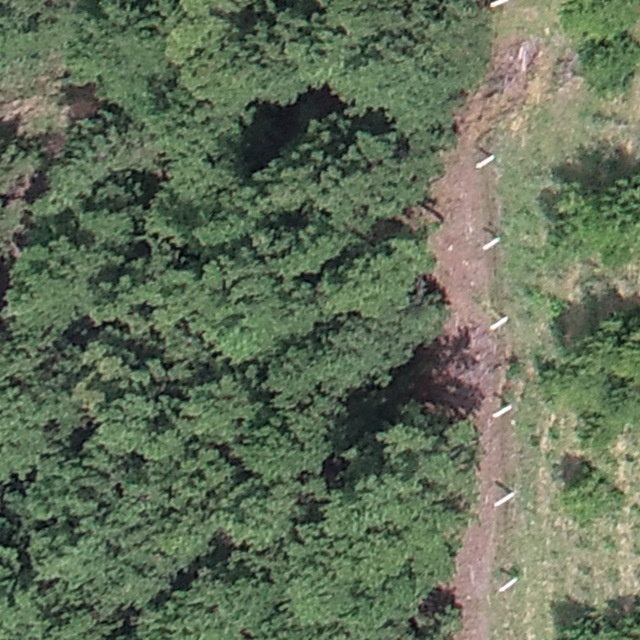unhealthy: (487, 33, 557, 95), (454, 90, 527, 136), (1, 92, 53, 132), (452, 607, 495, 640), (41, 131, 70, 156)
